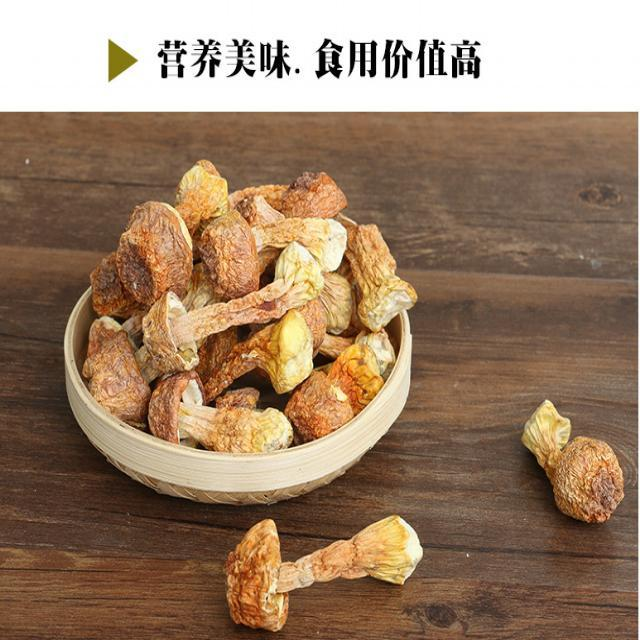Agaricus blazei Murill: (82, 159, 415, 451), (227, 513, 427, 629), (522, 394, 623, 531)
